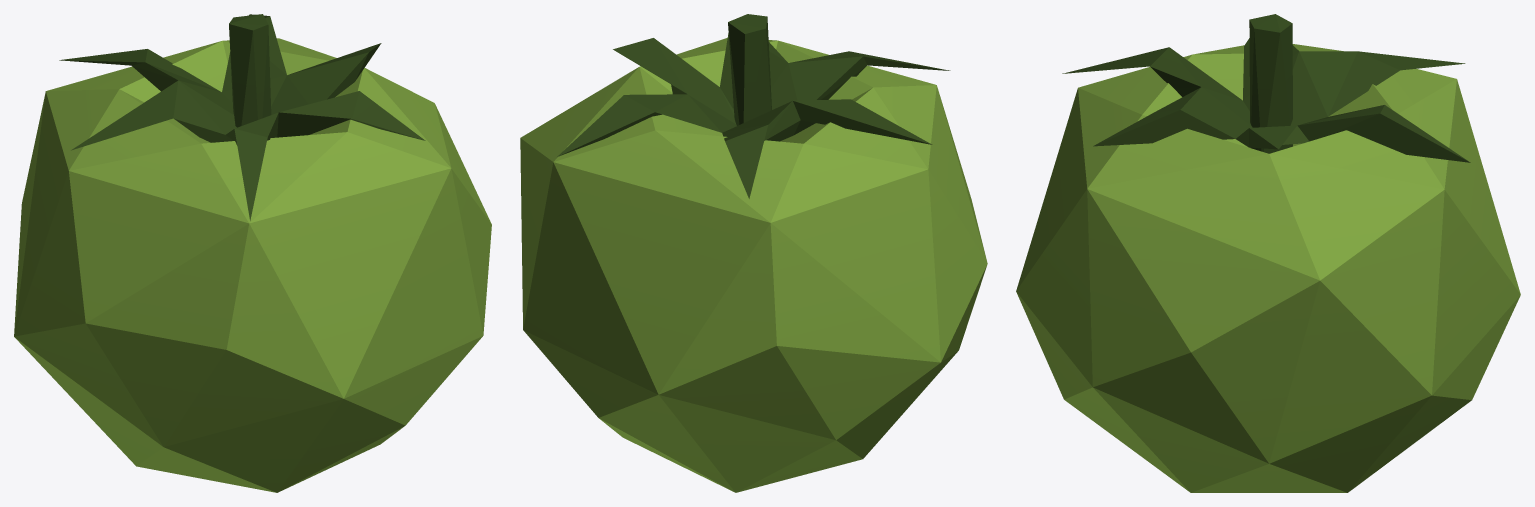
Rendered from Tomato_02.fbx.
3 views of the same model, side by side, from view 1: azimuth 30°, elevation 25°; view 2: azimuth 150°, elevation 25°; view 3: azimuth 270°, elevation 25° (orthographic). The views are drawn at different scales.
Visible parts, largest first — view 1: Tomato_02; view 2: Tomato_02; view 3: Tomato_02.
Boxes of the visible parts, x1,y1,x2,y2 form: Tomato_02: (14, 14, 491, 492); Tomato_02: (520, 14, 987, 492); Tomato_02: (1016, 14, 1520, 492).
Size of the model in its own units: 0.1707 by 0.1729 by 0.1729.
